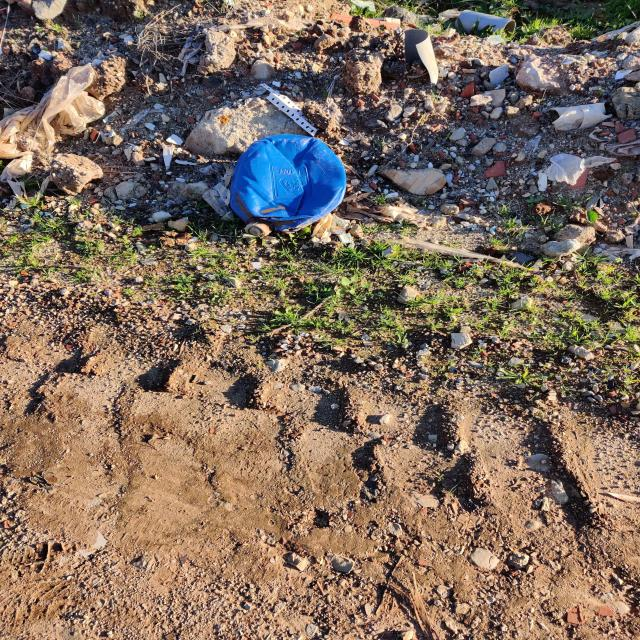litter: (380, 187, 583, 294), (5, 47, 150, 185), (221, 134, 357, 233), (526, 88, 623, 210), (118, 92, 198, 173), (382, 23, 458, 86), (249, 77, 330, 132), (312, 6, 423, 45), (457, 5, 527, 45)
